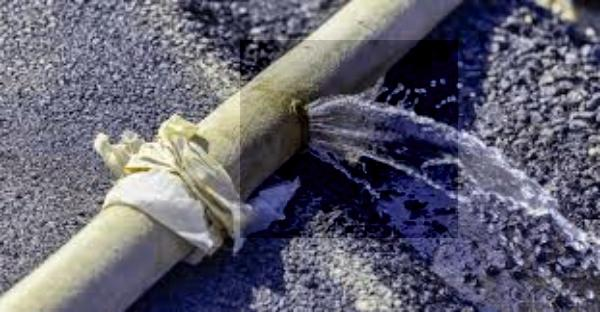water: (240, 40, 458, 238)
